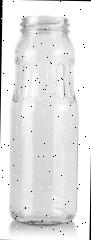glass: (7, 14, 83, 226)
